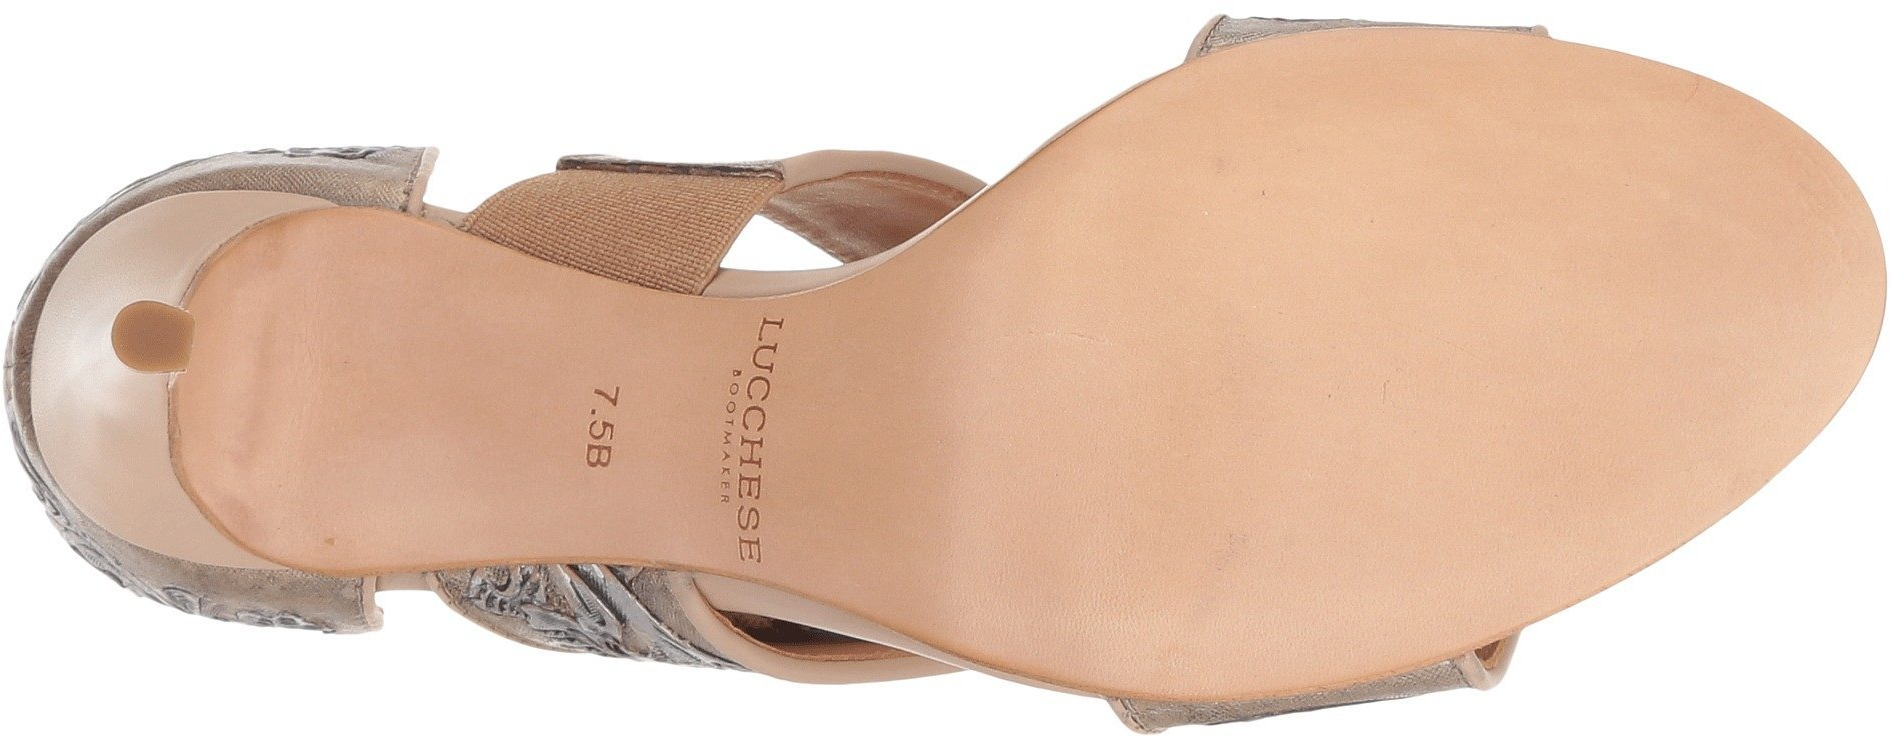exclude: (13, 68, 1041, 725)
